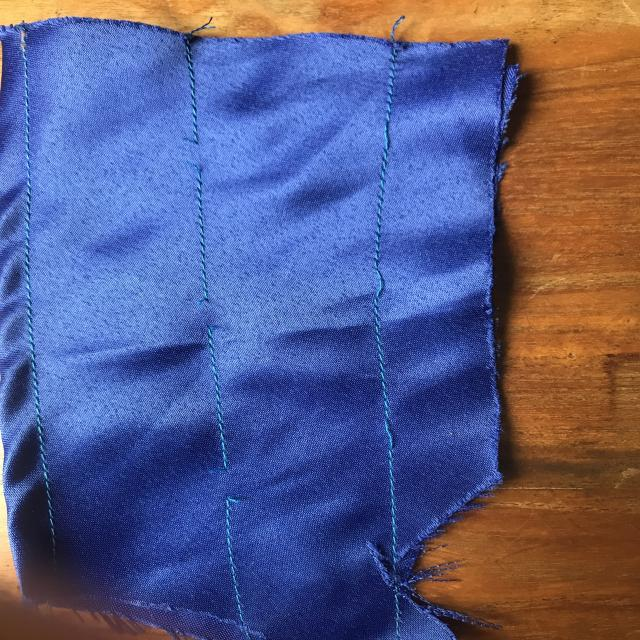broken: (161, 104, 229, 180), (211, 453, 256, 514)
skip: (349, 255, 402, 301), (356, 410, 406, 452)
